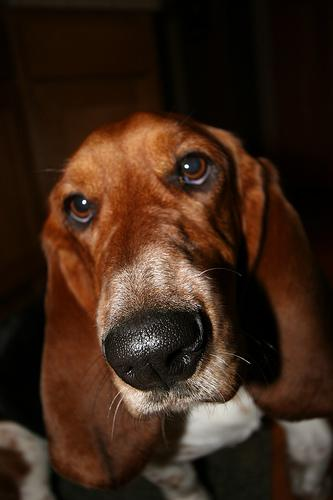dog-basset_hound: (39, 109, 332, 483)
